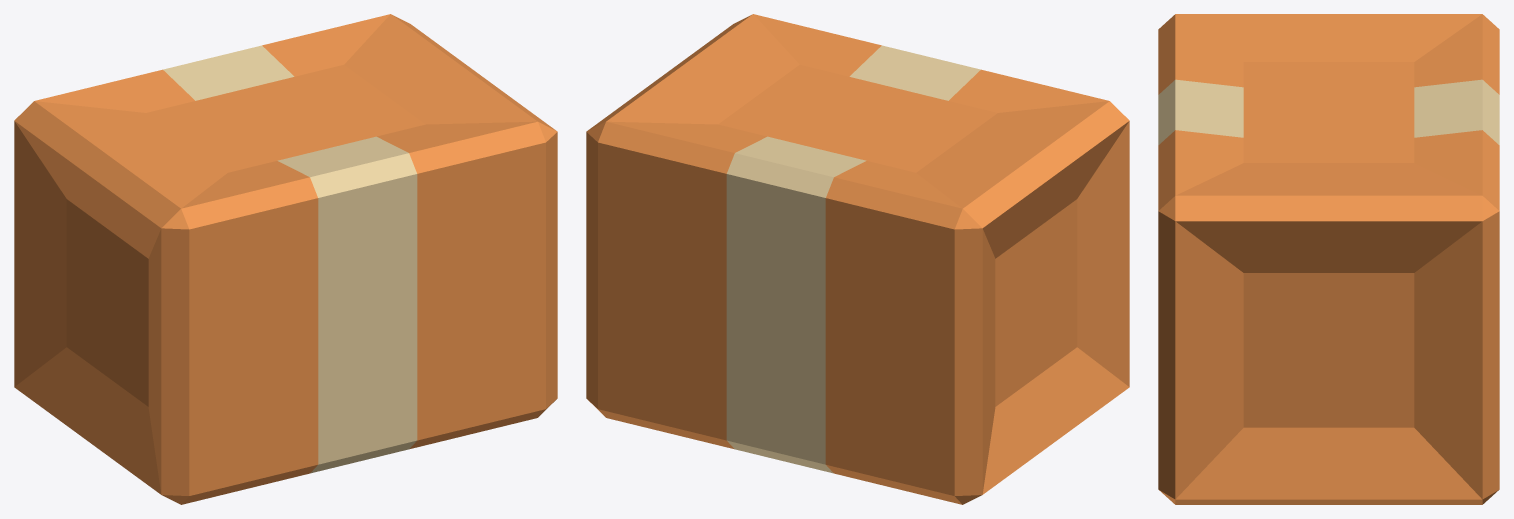
The model's file is SM_CardBoxA.glb.
The picture shows the model from 3 angles, left to right: view 1: azimuth 30°, elevation 25°; view 2: azimuth 150°, elevation 25°; view 3: azimuth 270°, elevation 25°; orthographic projection. The views are drawn at different scales.
Visible parts, largest first — view 1: part_00, part_01; view 2: part_00, part_01; view 3: part_00, part_01.
Boxes of the visible parts, bbox=[...] form: part_00: bbox=[14, 14, 557, 504]; part_01: bbox=[163, 45, 417, 473]; part_00: bbox=[586, 14, 1129, 504]; part_01: bbox=[726, 45, 980, 473]; part_00: bbox=[1158, 14, 1499, 504]; part_01: bbox=[1158, 79, 1499, 144].
Bounding box in the file's own units: 0.7 × 0.5 × 0.5.
